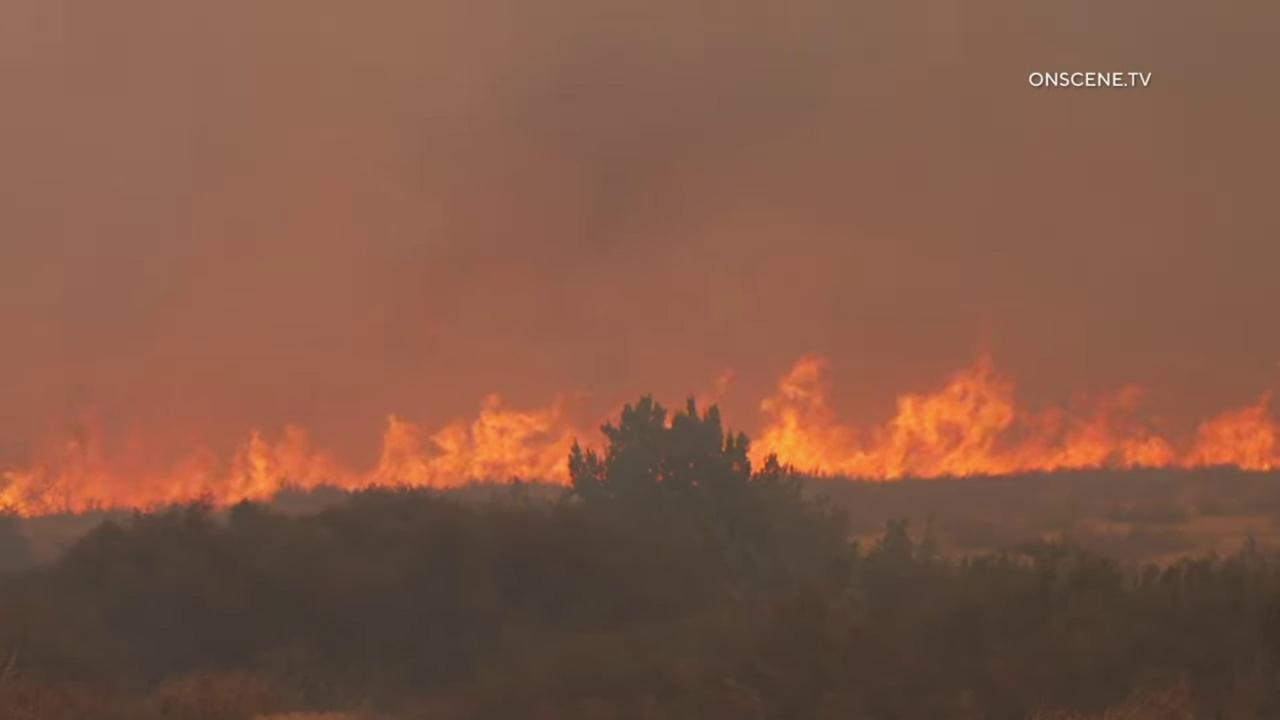fire: (0, 386, 636, 524), (737, 353, 1280, 484)
smoke: (0, 0, 1280, 571)
